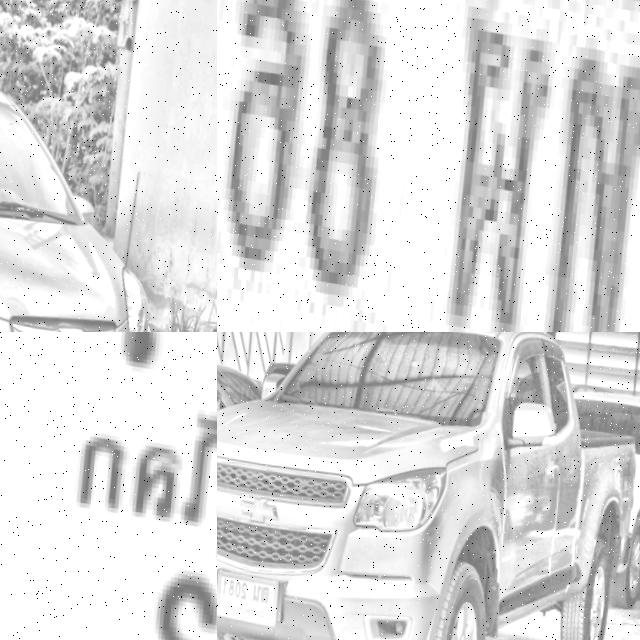license-plate: (217, 0, 640, 332), (0, 332, 217, 640), (217, 563, 284, 624)
